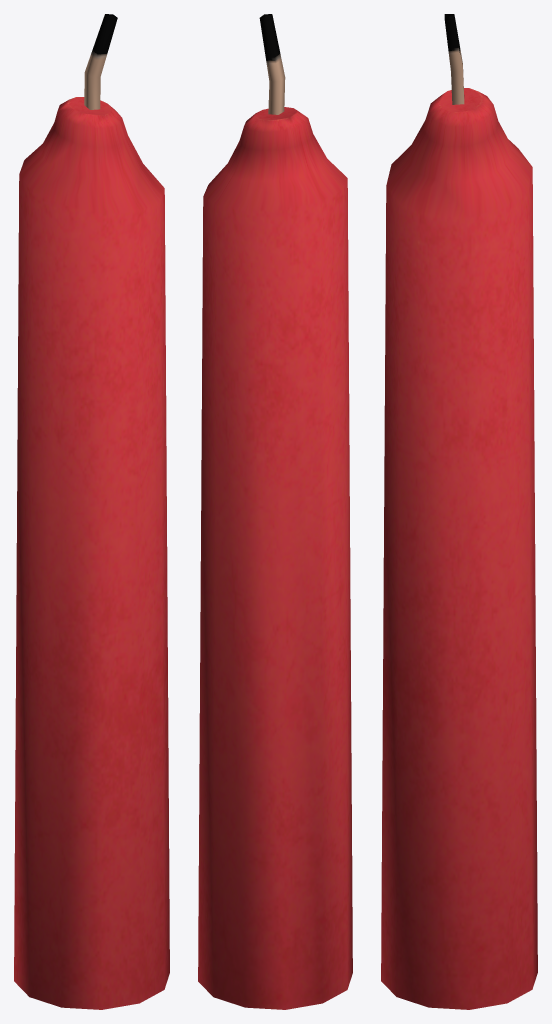
Rendered from Monk Candle.fbx.
3 views of the same model, side by side, from view 1: azimuth 30°, elevation 25°; view 2: azimuth 150°, elevation 25°; view 3: azimuth 270°, elevation 25° (orthographic).
Parts seen in each view (by area): view 1: MonkCandle; view 2: MonkCandle; view 3: MonkCandle.
Part boxes in pixels (left/top/right/bottom): MonkCandle: left=14, top=14, right=169, bottom=1009; MonkCandle: left=198, top=14, right=352, bottom=1009; MonkCandle: left=381, top=14, right=537, bottom=1009.
Size of the model in its own units: 1.84 by 12.51 by 1.84.
1 material, 1 textured.
